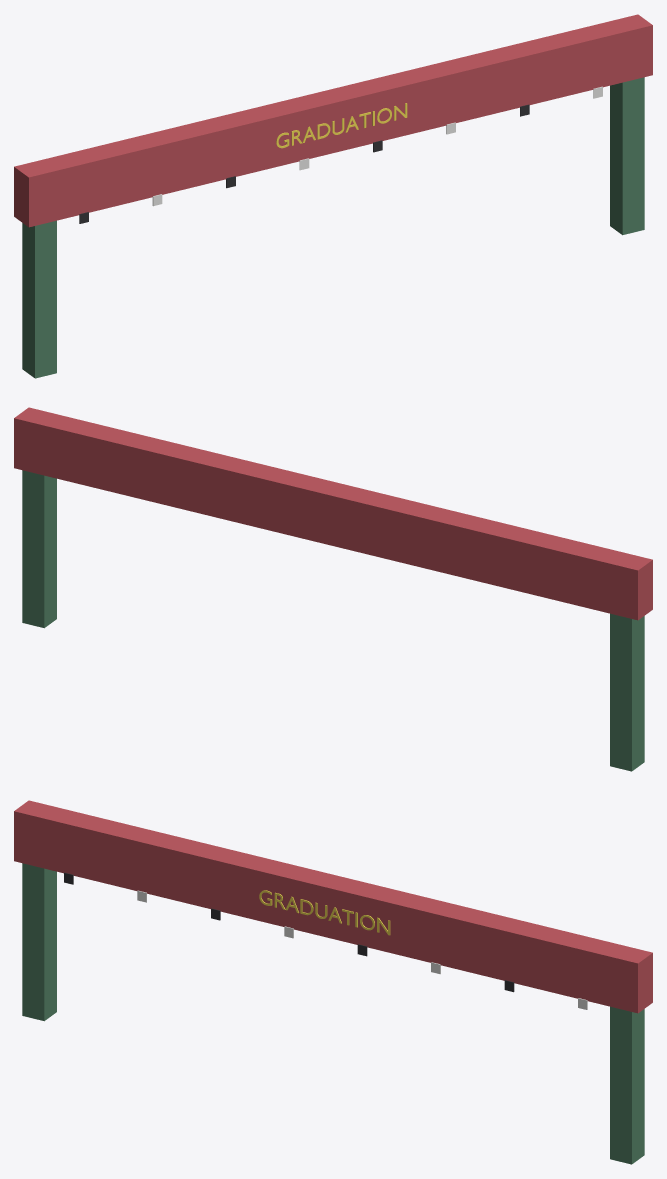
File: EN_GraduationArch.glb
The picture shows the model from 3 angles, top to bottom: view 1: azimuth 30°, elevation 25°; view 2: azimuth 150°, elevation 25°; view 3: azimuth 330°, elevation 25°; orthographic projection.
Parts seen in each view (by area): view 1: EN_GraduationArch; view 2: EN_GraduationArch; view 3: EN_GraduationArch.
Part boxes in pixels (x1,y1,x2,y2): EN_GraduationArch: (14, 14, 652, 378); EN_GraduationArch: (14, 407, 652, 771); EN_GraduationArch: (14, 800, 652, 1164).
Bounding box in the file's own units: 34 × 10.6 × 1.52.
